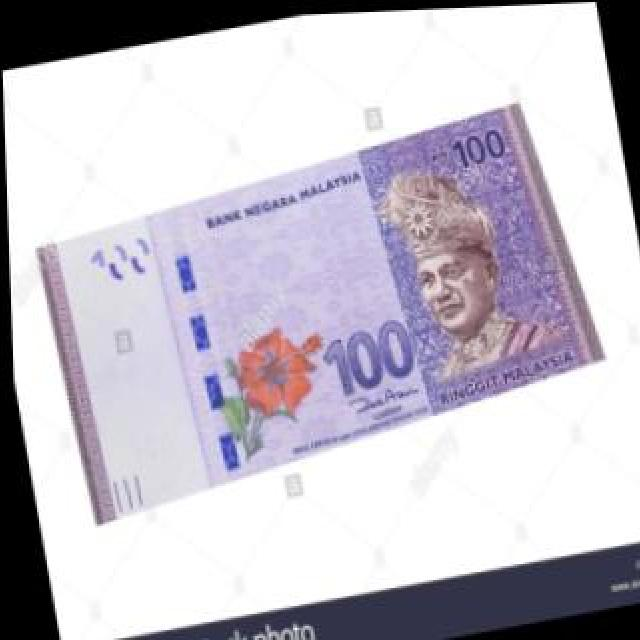100 Ringgit: (16, 90, 620, 528)
